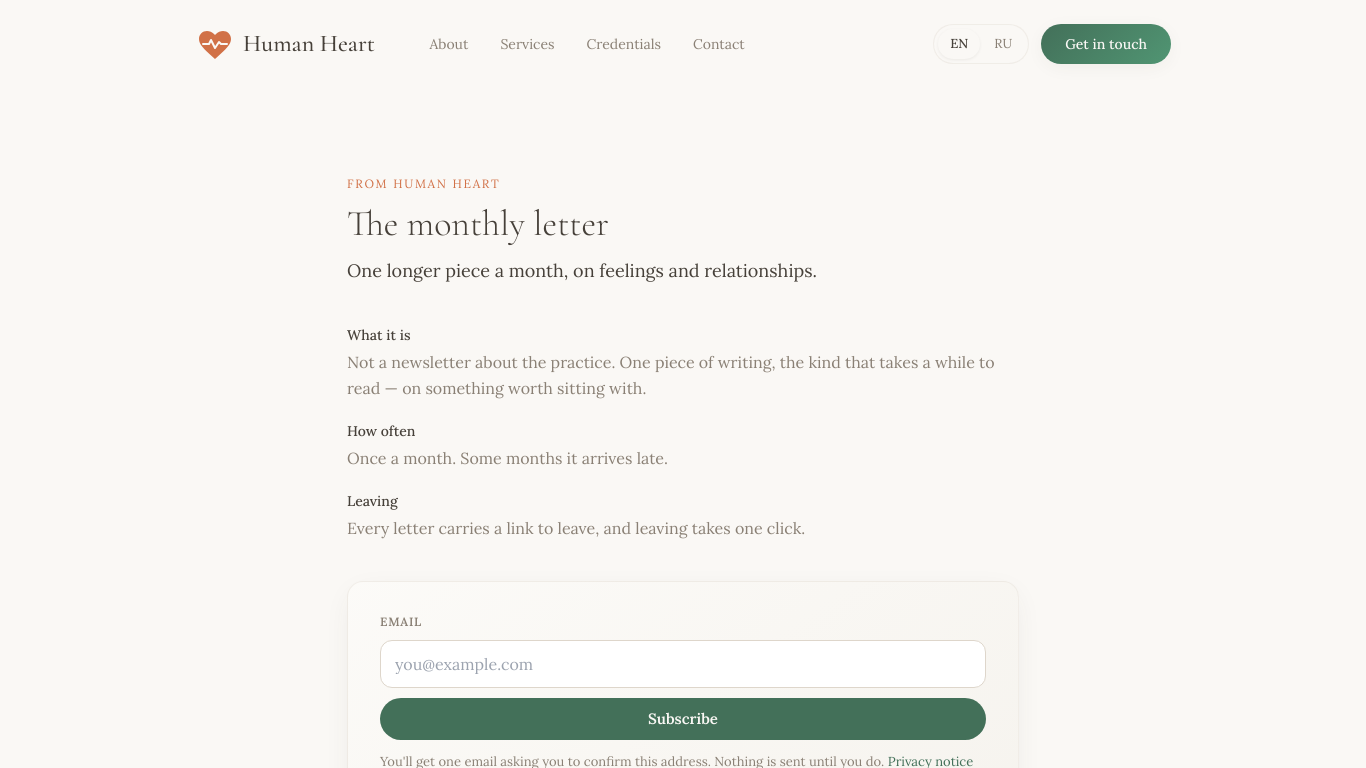
Scenario: subscribing from the page › does not claim success when the letter did not go pending
Type "reader@example.com" into the field labelled "Email".
click(683, 664); type("reader@example.com")  # box top-left (380, 640), bottom-right (986, 688)
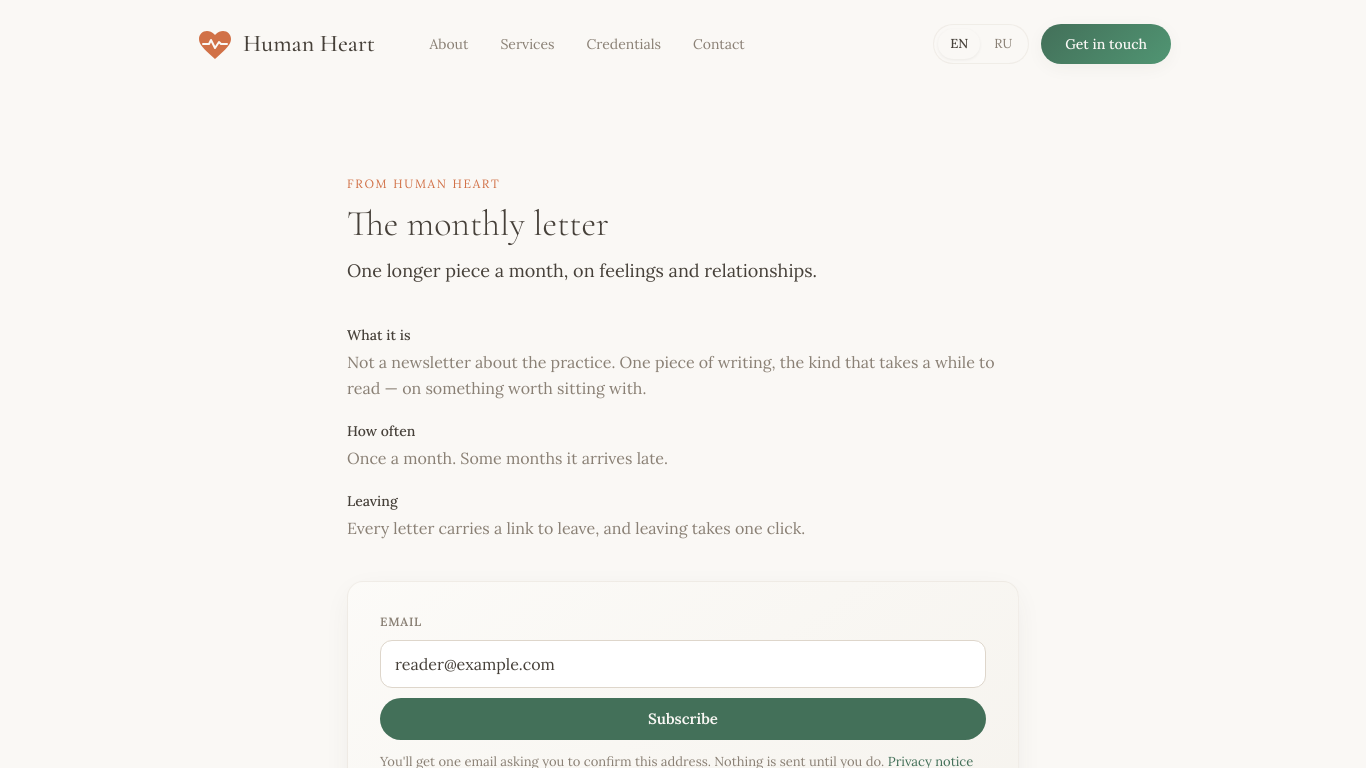
Click the button "Subscribe".
click(683, 719)  # box top-left (380, 698), bottom-right (986, 740)
(page scrolled)
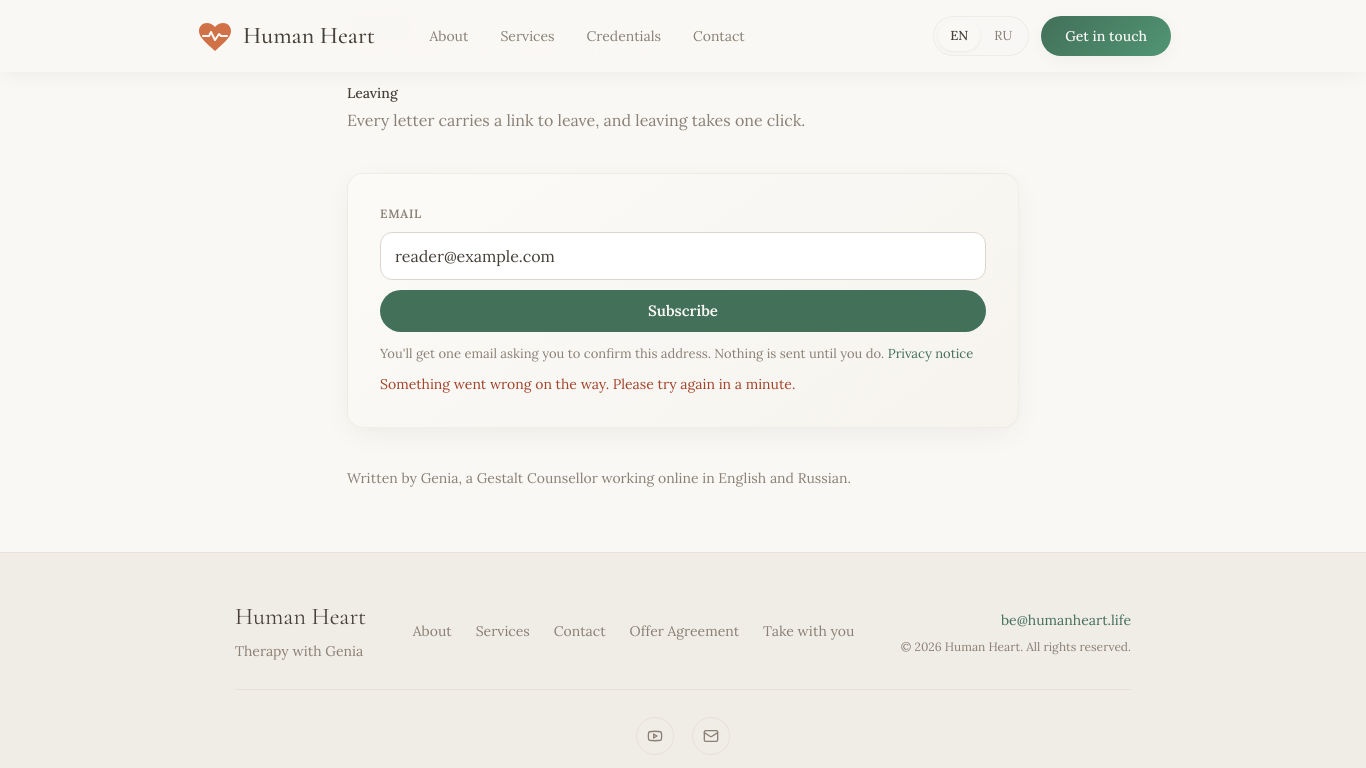
Now the message reads "Something went wrong on the way. Please try again in a minute.", box top-left (380, 375), bottom-right (795, 393)
